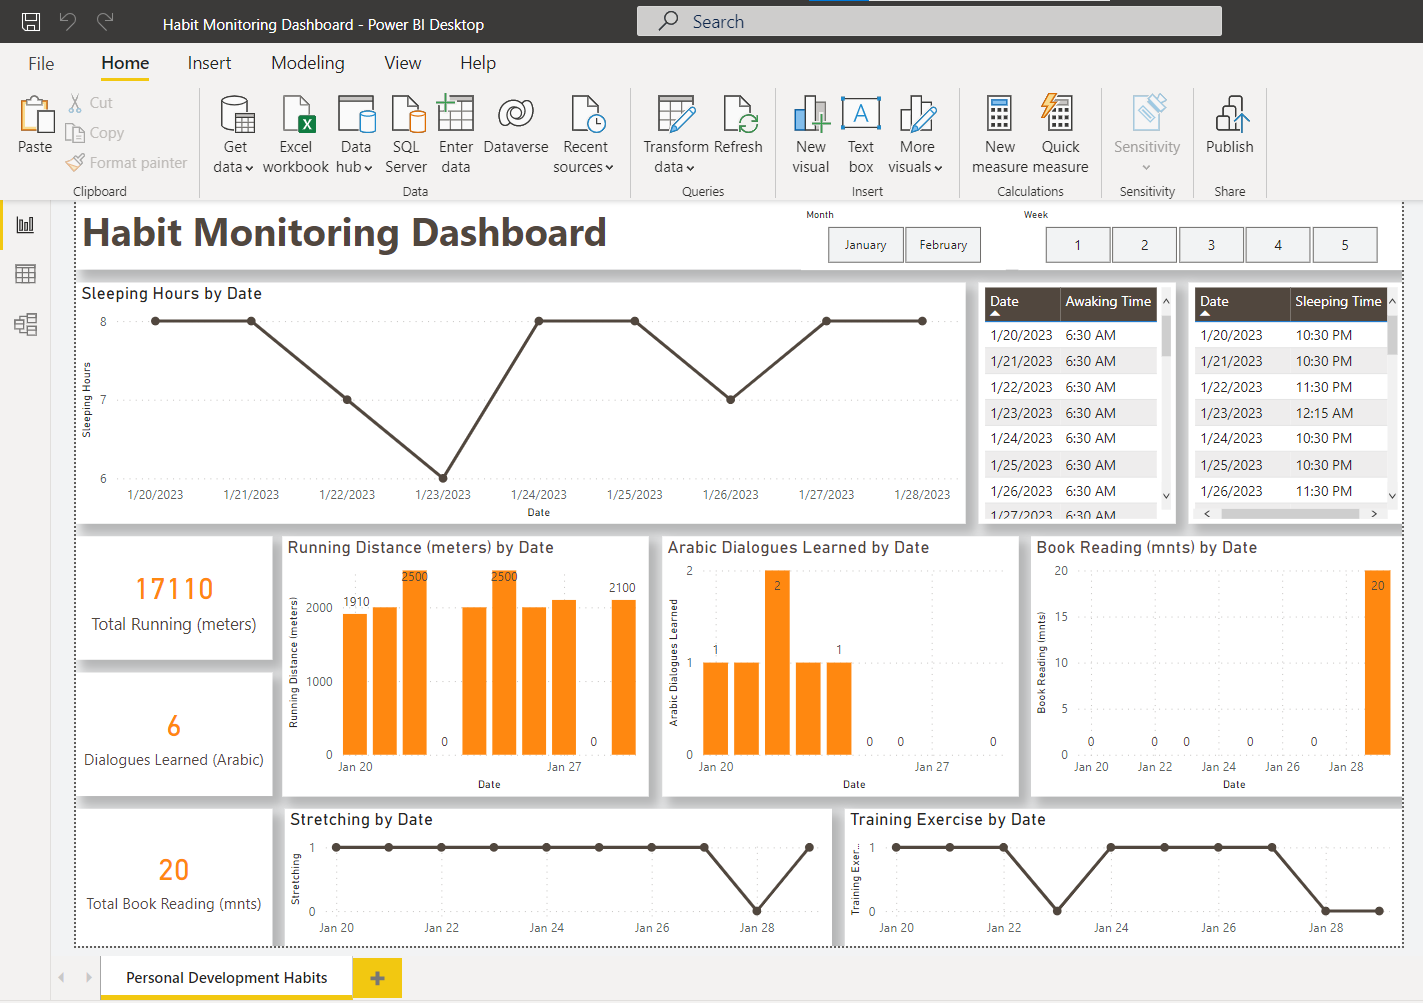

This screenshot's page, from the dashboard's own definition file:
{"tool":"powerbi","page":{"name":"Personal Development Habits","canvas":[1280,720],"ordinal":0},"visuals":[{"type":"textbox","box":[0,0,1279.6,67.5],"z":0},{"type":"lineChart","fields":{"Category":["Dim_Date.Date"],"Y":["Sum(Fact_Data.Sleep Duration)"]},"box":[0,79.6,858.7,232.8],"z":1000},{"type":"tableEx","fields":{"Values":["Fact_Data.Date","Fact_Data.Awaking Time"]},"box":[870.8,79.6,190.6,232.8],"z":2000},{"type":"slicer","title":"Month","fields":{"Values":["Dim_Date.Month Name"]},"box":[699.5,8.4,197.8,59.1],"z":3000},{"type":"slicer","title":"Week","fields":{"Values":["Dim_Date.Week of Month"]},"box":[909.3,8.4,370.3,59.1],"z":4000},{"type":"tableEx","fields":{"Values":["Fact_Data.Date","Fact_Data.Sleeping Time"]},"box":[1073.4,79.6,206.2,232.8],"z":5000},{"type":"card","fields":{"Values":["Basic Calculations.Total Running Distance"]},"box":[0,324.4,189.3,119.4],"z":6000},{"type":"card","fields":{"Values":["Basic Calculations.Total Dialogues Learned (Arabic)"]},"box":[0,455.9,189.3,119.4],"z":7000},{"type":"card","fields":{"Values":["Basic Calculations.Total Time (Book Reading)"]},"box":[0,587.3,189.3,132.7],"z":8000},{"type":"columnChart","fields":{"Category":["Dim_Date.Date"],"Y":["Sum(Fact_Data.Running Distance (meters))"]},"box":[199,324.4,353.4,250.9],"z":9000},{"type":"columnChart","fields":{"Category":["Dim_Date.Date"],"Y":["Sum(Fact_Data.Ara_lang Dialogues Learned)"]},"box":[565.6,324.4,343.7,250.9],"z":10000},{"type":"columnChart","fields":{"Category":["Dim_Date.Date"],"Y":["Sum(Fact_Data.Book Reading (mnts))"]},"box":[921.4,324.4,358.2,250.9],"z":11000},{"type":"lineChart","fields":{"Category":["Fact_Data.Date"],"Y":["Sum(Fact_Data.Stretching)"]},"box":[201.4,587.3,528.2,132.7],"z":12000},{"type":"lineChart","fields":{"Category":["Fact_Data.Date"],"Y":["Sum(Fact_Data.Training Exercises)"]},"box":[741.7,587.3,537.9,132.7],"z":13000}]}

Visuals, with their boxes on the page's 1280x720 design canvas (x1, y1, x2, y2). These are canvas units, not pixel positions in the 1423x1003 screenshot, which may show the page scaled, cropped or inside an application window:
textbox: 0/0/1280/68
lineChart - Dim_Date.Date x Sum(Fact_Data.Sleep Duration): 0/80/859/312
tableEx - Fact_Data.Date x Fact_Data.Awaking Time: 871/80/1061/312
"Month" slicer: 700/8/897/68
"Week" slicer: 909/8/1280/68
tableEx - Fact_Data.Date x Fact_Data.Sleeping Time: 1073/80/1280/312
card - Basic Calculations.Total Running Distance: 0/324/189/444
card - Basic Calculations.Total Dialogues Learned (Arabic): 0/456/189/575
card - Basic Calculations.Total Time (Book Reading): 0/587/189/720
columnChart - Dim_Date.Date x Sum(Fact_Data.Running Distance (meters)): 199/324/552/575
columnChart - Dim_Date.Date x Sum(Fact_Data.Ara_lang Dialogues Learned): 566/324/909/575
columnChart - Dim_Date.Date x Sum(Fact_Data.Book Reading (mnts)): 921/324/1280/575
lineChart - Fact_Data.Date x Sum(Fact_Data.Stretching): 201/587/730/720
lineChart - Fact_Data.Date x Sum(Fact_Data.Training Exercises): 742/587/1280/720
